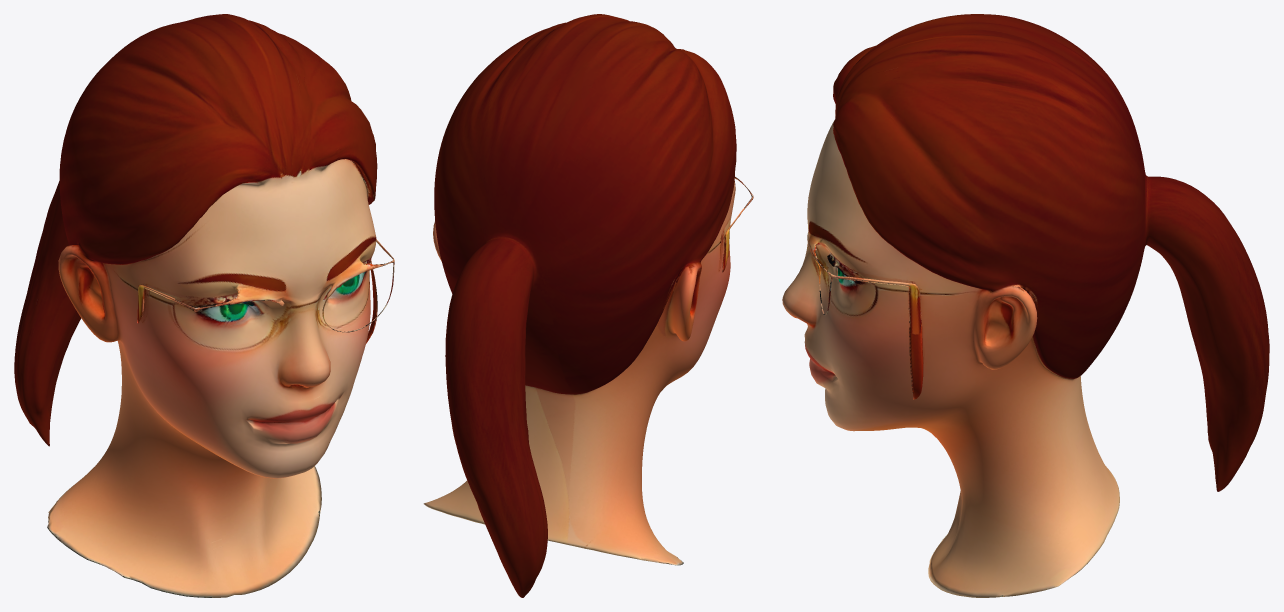
File: elena.glb
The picture shows the model from 3 angles, left to right: view 1: azimuth 30°, elevation 25°; view 2: azimuth 150°, elevation 25°; view 3: azimuth 270°, elevation 25°; orthographic projection. The views are drawn at different scales.
Parts seen in each view (by area): view 1: model; view 2: model; view 3: model.
Boxes of the visible parts, left/top/right/bottom form: model: left=14, top=14, right=394, bottom=597; model: left=423, top=14, right=753, bottom=597; model: left=782, top=14, right=1269, bottom=597.
Size of the model in its own units: 0.9913 by 1.9 by 1.54.
1 material, 1 textured.
